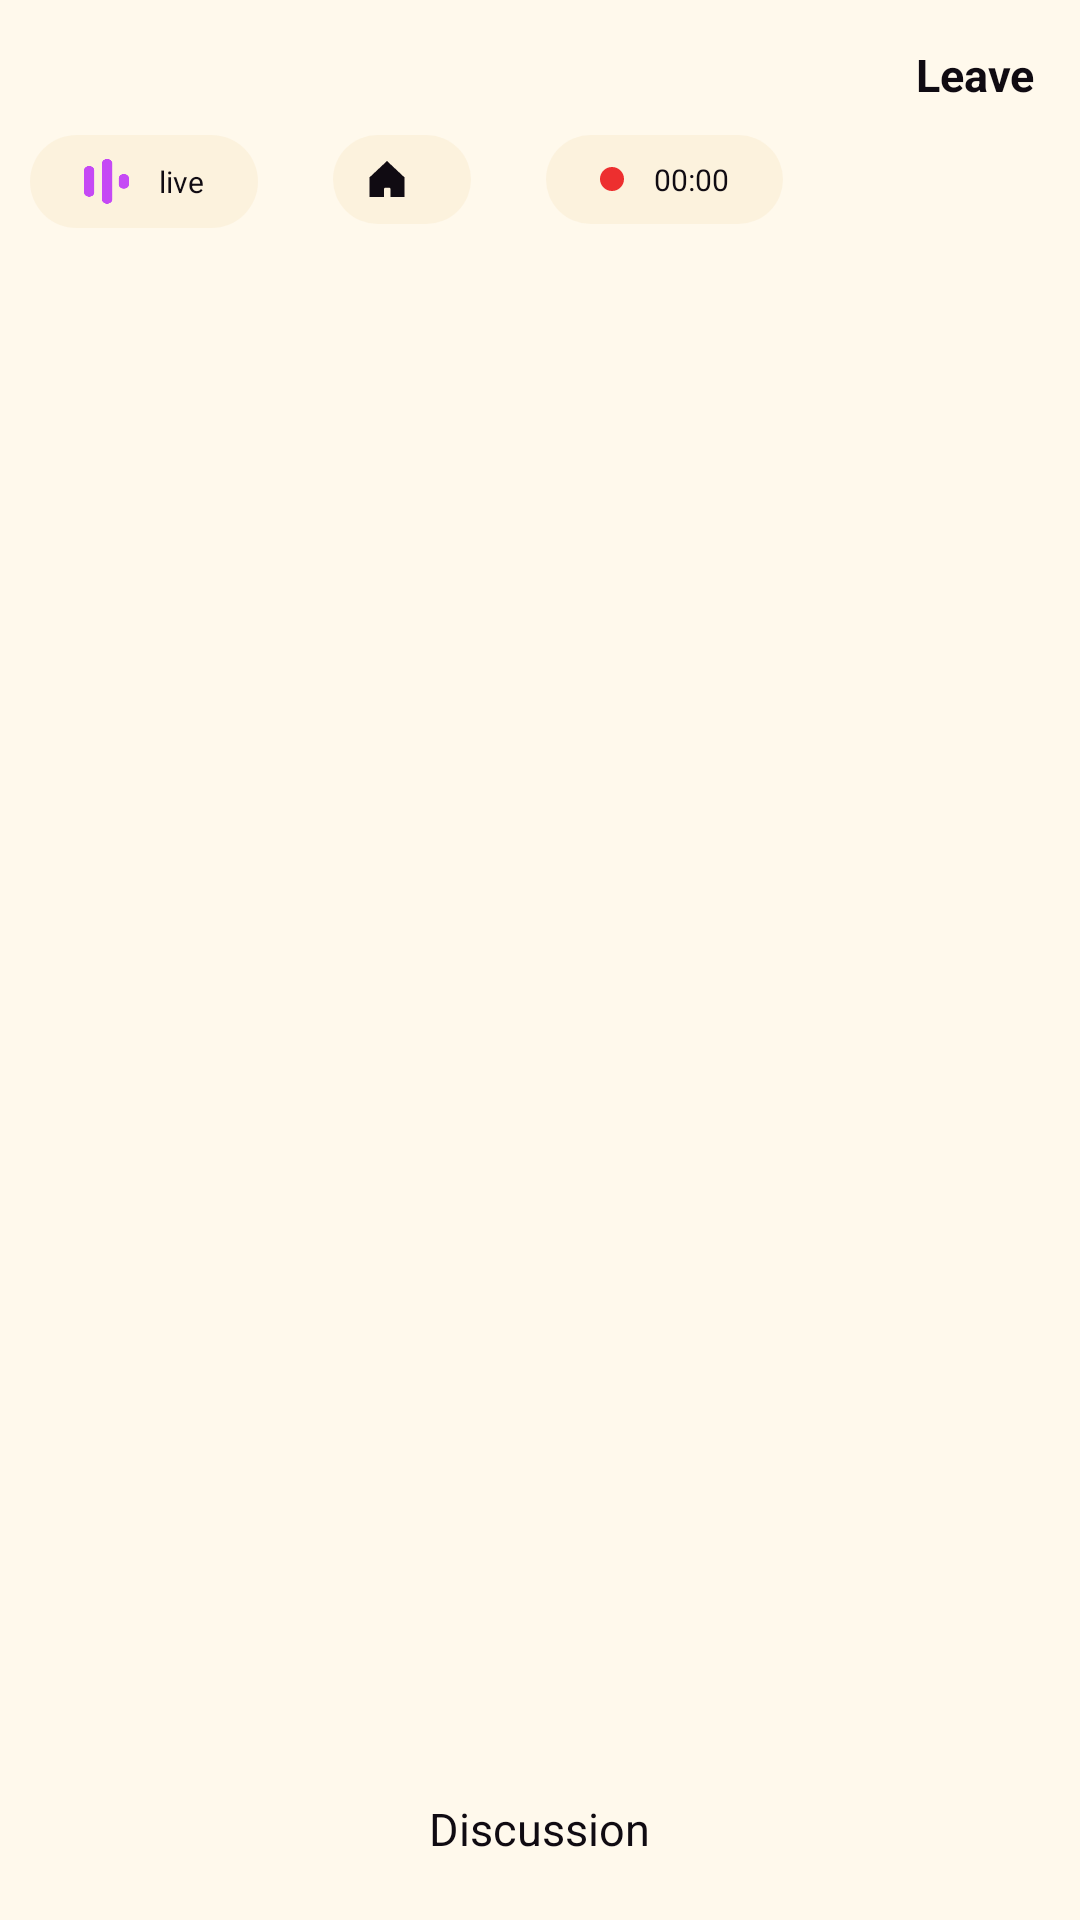

Screen size 1080×1920. Icon name, then its box in pixels as (x1, y1, x2, y2):
audioroom: (84, 159, 129, 204)
homeicon: (369, 161, 405, 197)
